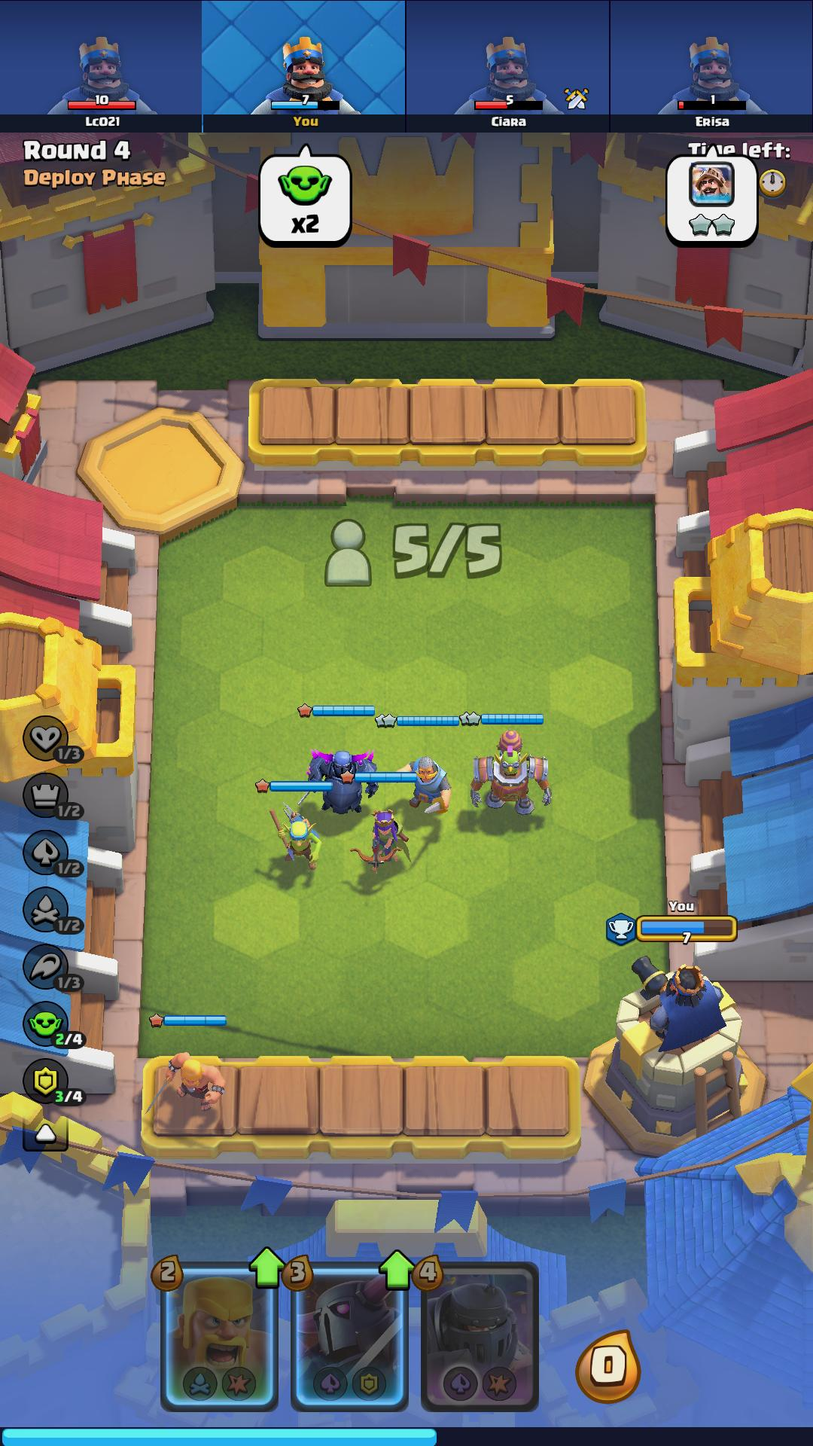barbarian: (158, 1038, 231, 1118)
hand-barbarian: (167, 1267, 272, 1406)
hand-mega: (428, 1267, 531, 1403)
hand-pekka: (299, 1267, 405, 1402)
knight: (396, 743, 458, 827)
machine: (460, 727, 558, 830)
pekka: (297, 736, 381, 817)
queen: (354, 805, 418, 885)
spear: (260, 797, 330, 879)
upgrade: (247, 1244, 286, 1294), (379, 1248, 418, 1295)
